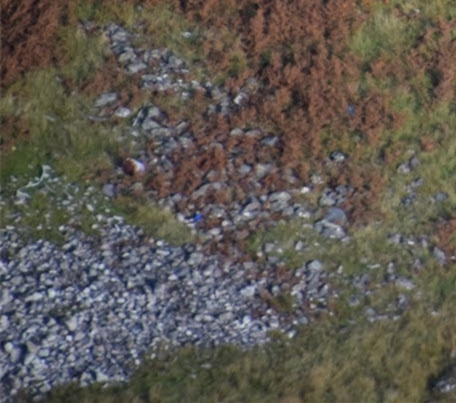white_in_green: (103, 139, 164, 191), (179, 196, 217, 233)
